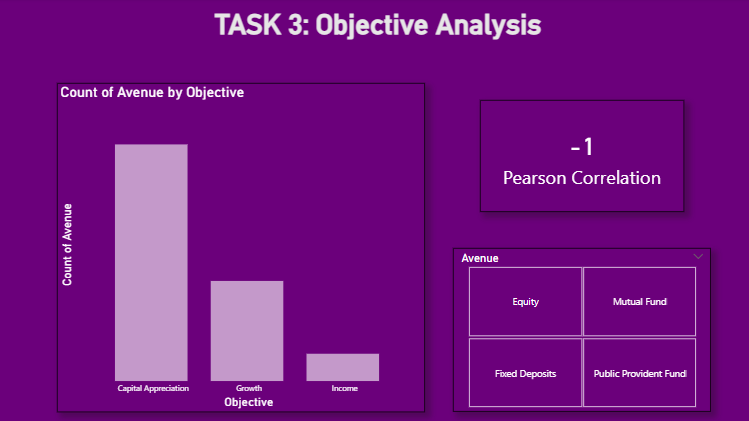

The dashboard page shown, as its layout file describes it:
{"tool":"powerbi","page":{"name":"Task 3","canvas":[1280,720],"ordinal":2},"visuals":[{"type":"textbox","title":"TASK 3: Objective Analysis","box":[21.8,16.8,1236.3,62.2],"z":0},{"type":"clusteredColumnChart","fields":{"Y":["CountNonNull(Data_set 2.Avenue)"],"Category":["Data_set 2.Objective"]},"box":[100.8,142.8,618.2,552.7],"z":1000},{"type":"slicer","fields":{"Values":["Data_set 2.Avenue"]},"box":[766,419.9,433.4,275.5],"z":2000},{"type":"card","fields":{"Values":["Data_set 2.Pearson Correlation"]},"box":[811.3,171.3,342.7,188.1],"z":3000}]}

Visuals, with their boxes in screenshot pixels (x1, y1, x2, y2), scaled from the page's 1280x720 canvas onto the 749x421 screenshot:
"TASK 3: Objective Analysis" textbox: (x1=13, y1=10, x2=736, y2=46)
clusteredColumnChart - CountNonNull(Data_set 2.Avenue) x Data_set 2.Objective: (x1=59, y1=83, x2=421, y2=407)
slicer - Data_set 2.Avenue: (x1=448, y1=246, x2=702, y2=407)
card - Data_set 2.Pearson Correlation: (x1=475, y1=100, x2=675, y2=210)
